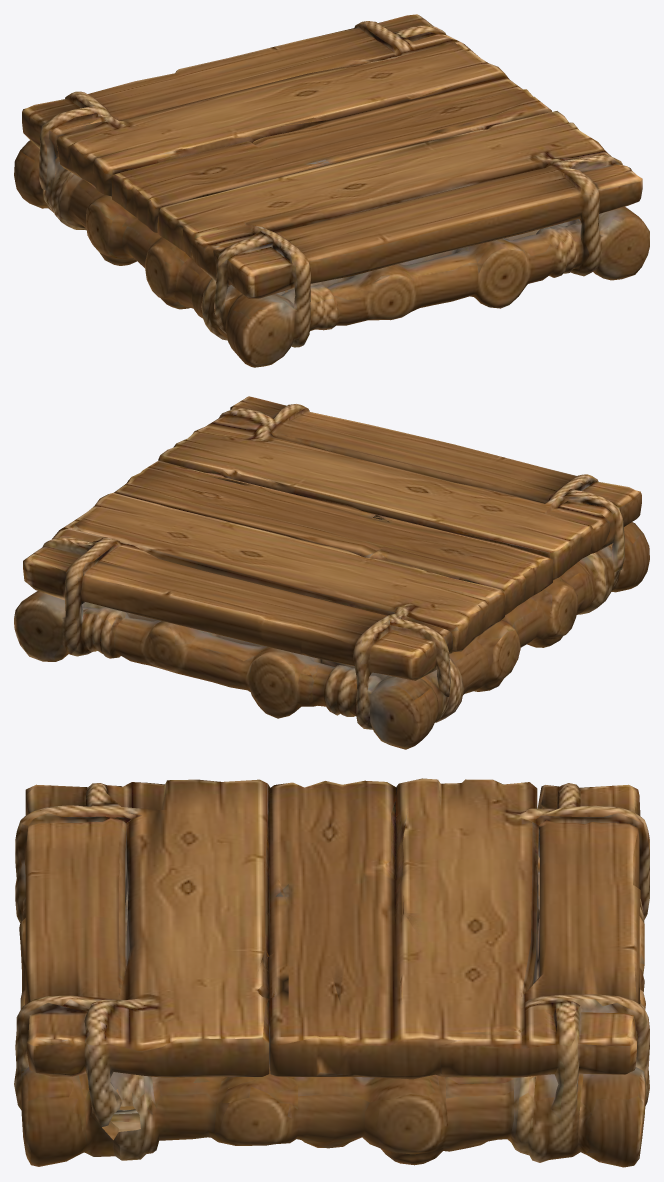
File: raft_v2.glb
3 views of the same model, one above another, from view 1: azimuth 30°, elevation 25°; view 2: azimuth 150°, elevation 25°; view 3: azimuth 270°, elevation 25° (orthographic). The views are drawn at different scales.
Bounding box in the file's own units: 1.91 × 0.4814 × 1.9.
Materials: 1 (1 with a texture image).
